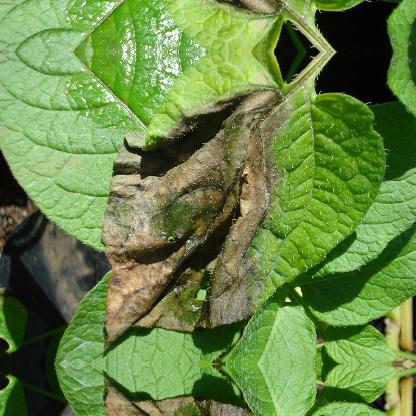Late-Blight: (96, 71, 320, 360)
